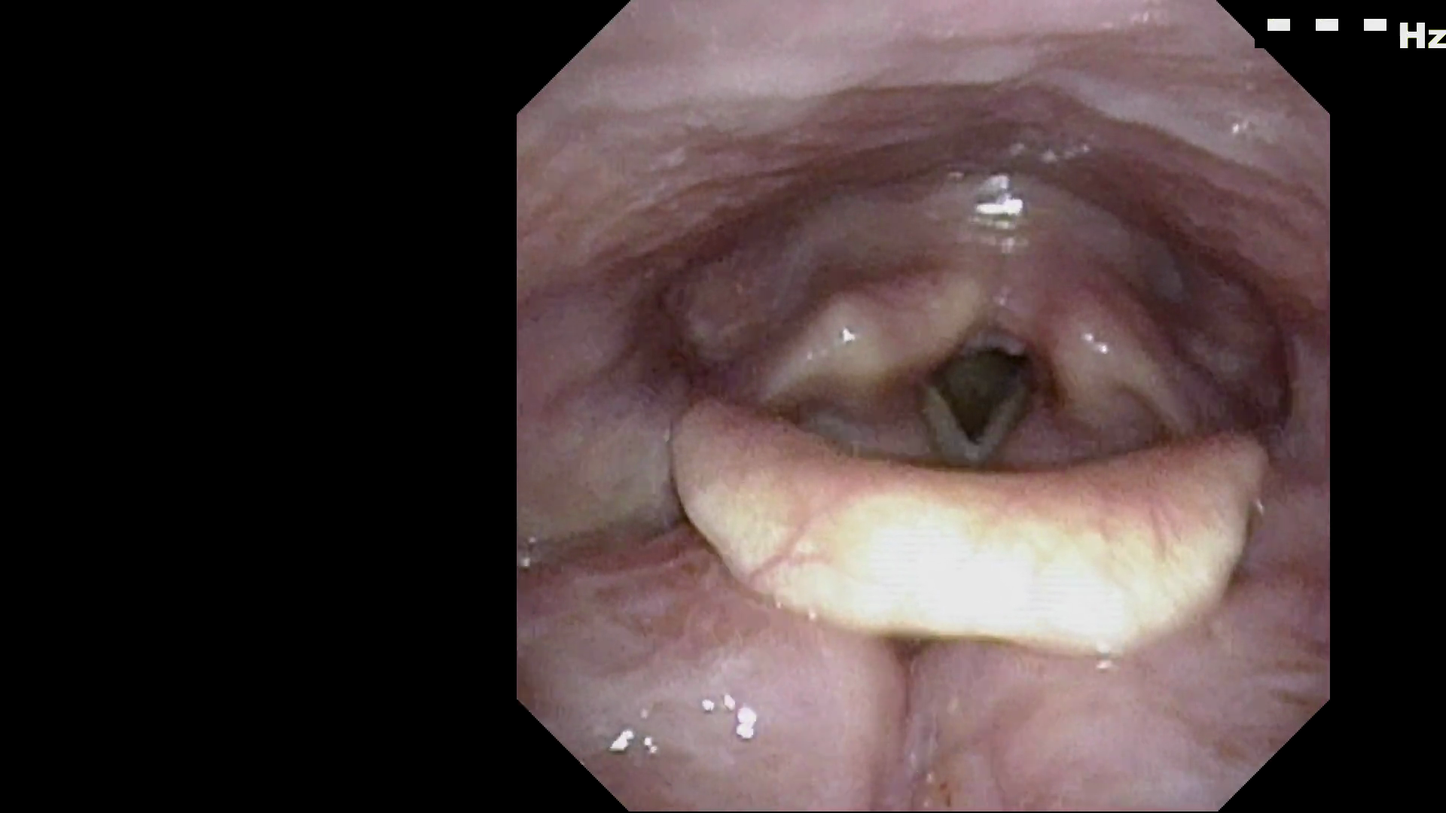epiglottis: (656, 385, 1273, 658)
trachea: (899, 312, 1057, 477)
